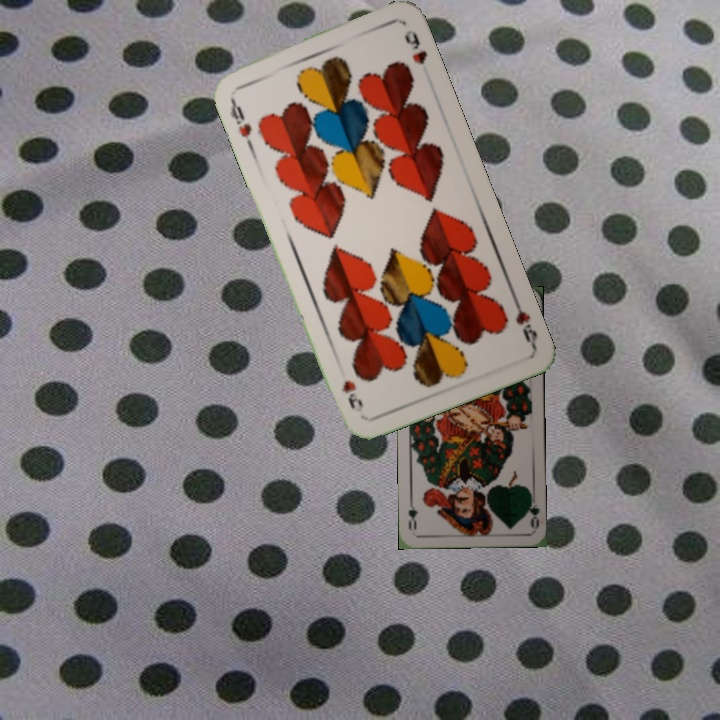GO: (522, 490, 542, 531)
H9: (508, 292, 541, 349), (225, 92, 255, 149)
